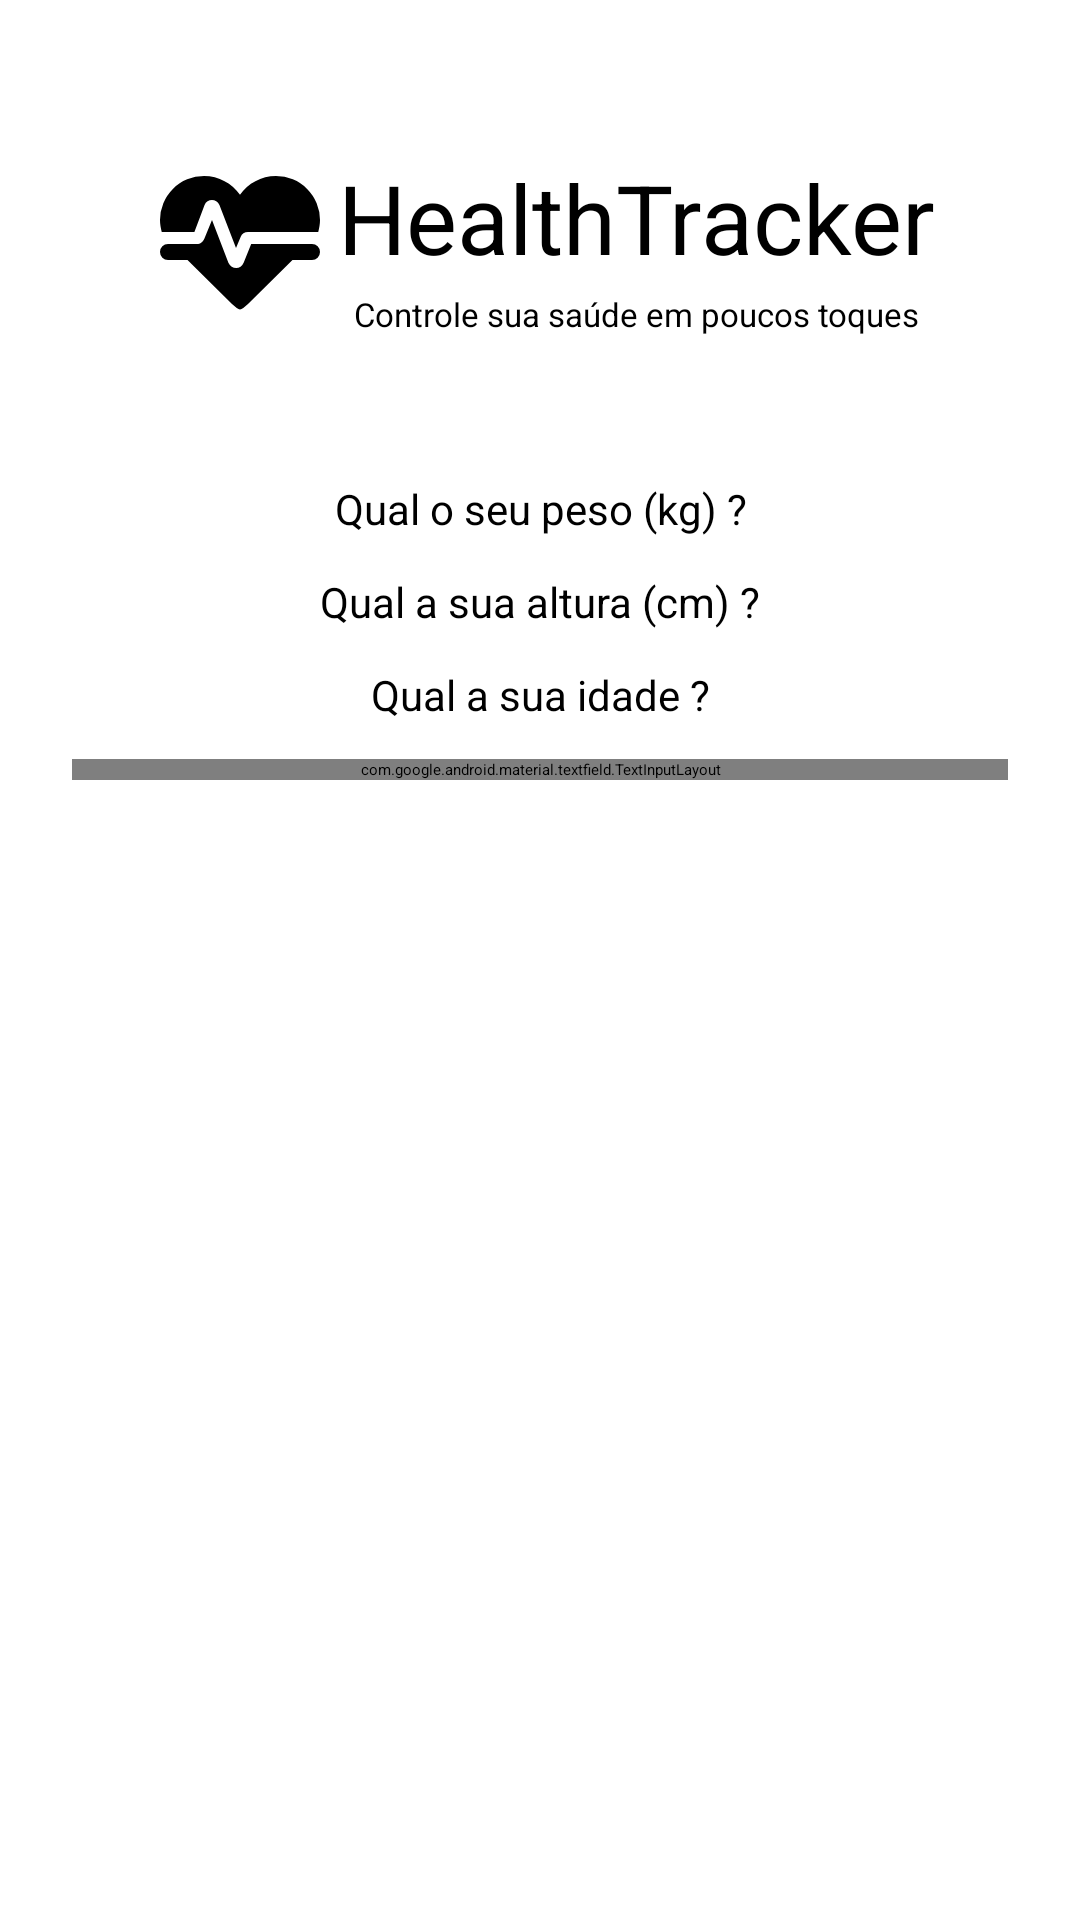

Named icons in this screenshot (1080px×1920px) and their centers, point (x, y):
heart pulse: point (240, 243)
